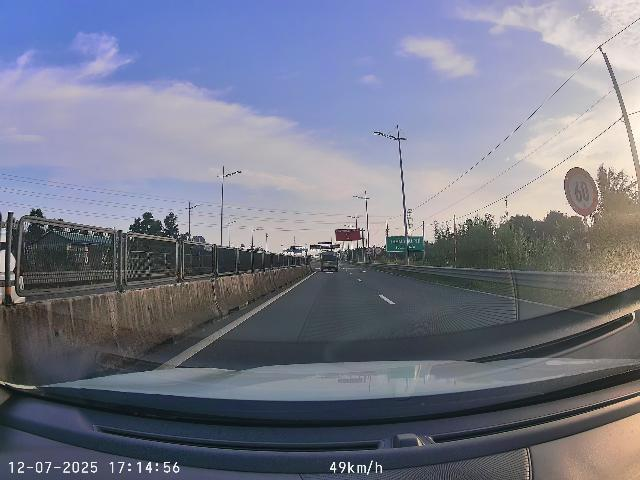127-toc-do-toi-da-60: (564, 167, 598, 216)
